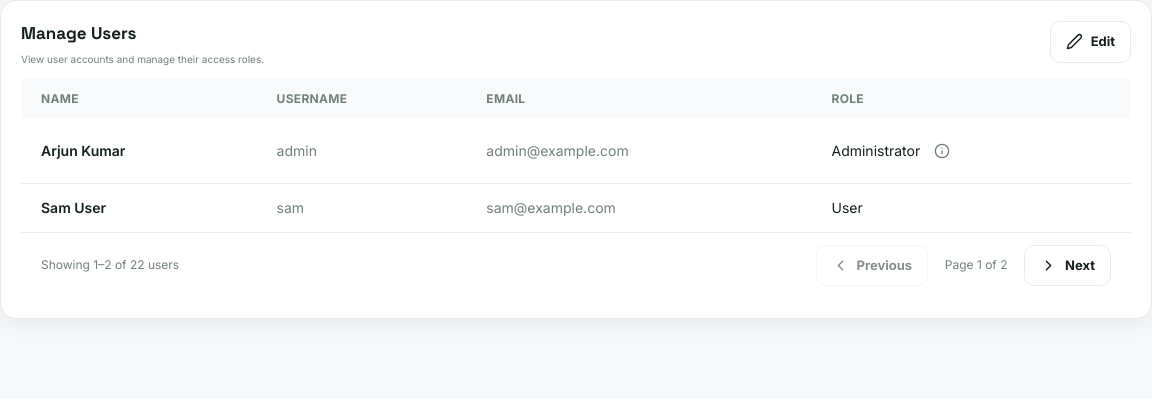
Test: AdminUsersPage › reverts a role change and reports a failure when PATCH fails
Check: the text "Sam User" is shown, box [21, 183, 257, 232]
What coordinates should you click on to do the following:
click the button "Edit"
I would click on:
 (1090, 42)
Its box is [1050, 21, 1131, 62].
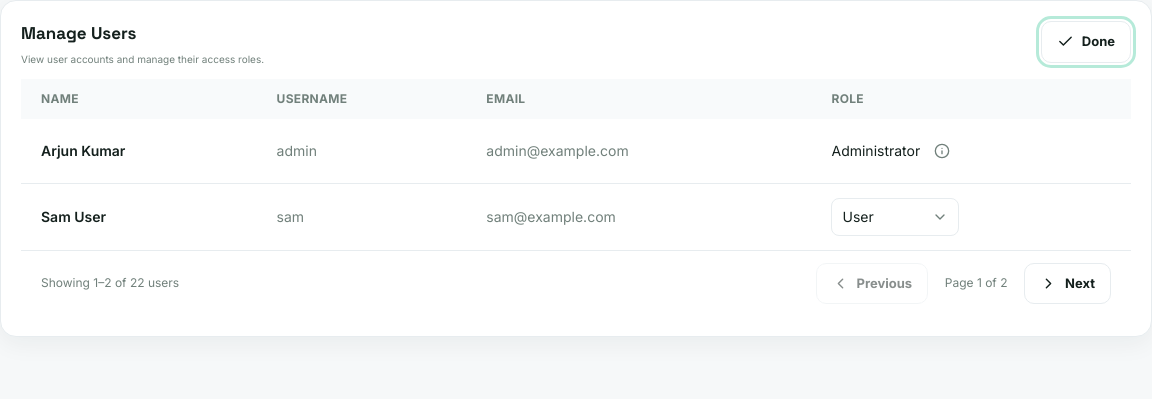
What coordinates should you click on to do the following:
click the button with aria-label "Role for Sam User"
I would click on:
 (896, 216)
Its box is [832, 198, 960, 236].
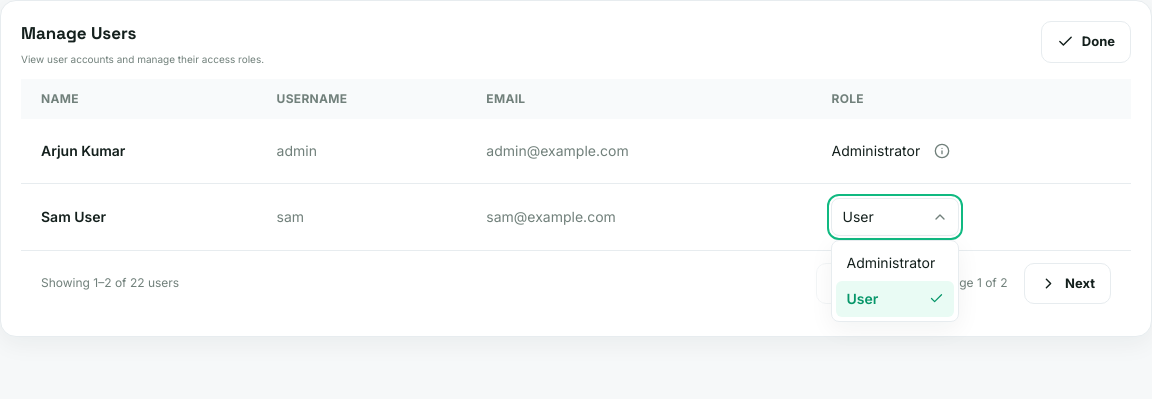
What coordinates should you click on to do the following:
click the option "Administrator"
I would click on:
 (896, 262)
Its box is [836, 244, 954, 280].
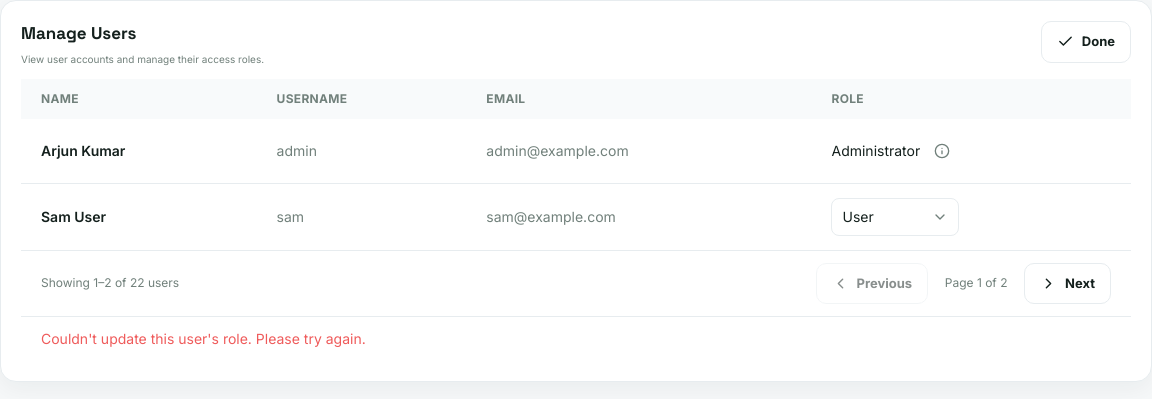
Check: the button with aria-label "Role for Sam User" reads "User", box [832, 198, 960, 236]
Check: the message shows "Couldn't update this user's role", box [41, 330, 366, 347]
